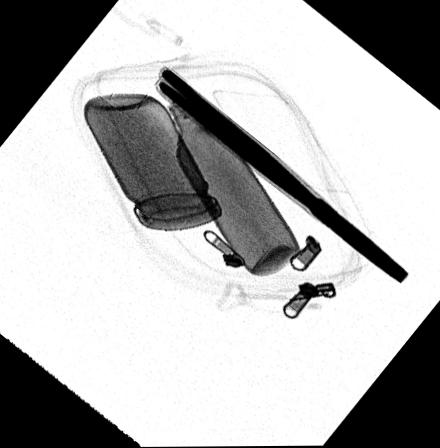Pliers: (155, 67, 410, 286)
